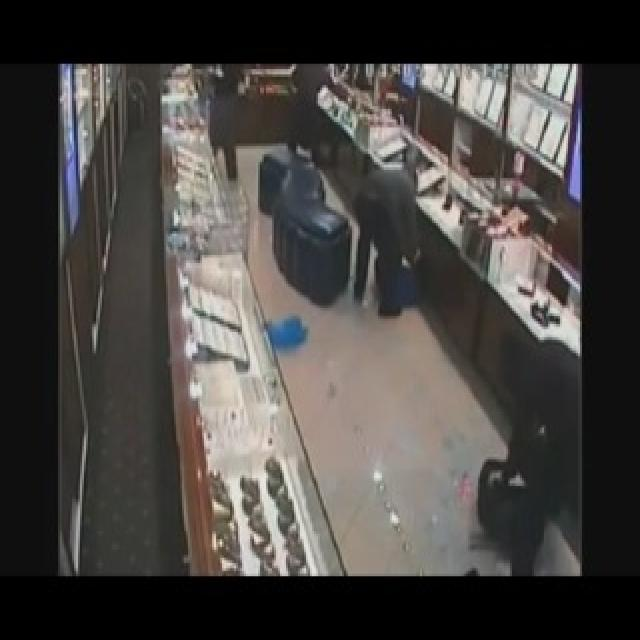thief: (494, 327, 583, 578), (352, 148, 428, 318), (286, 66, 338, 169), (201, 67, 246, 179)
